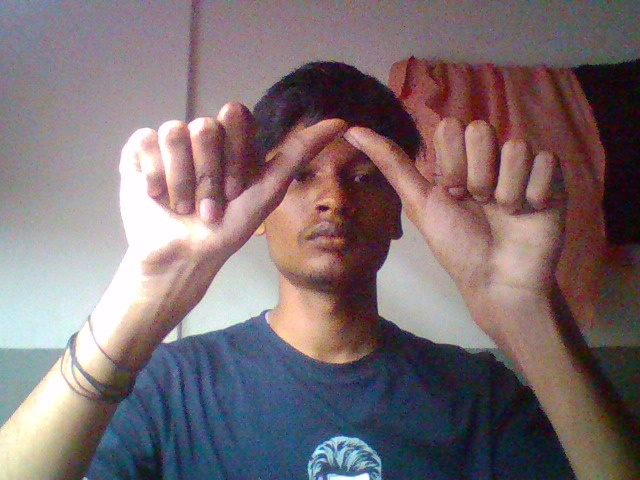A: (70, 85, 607, 309)
